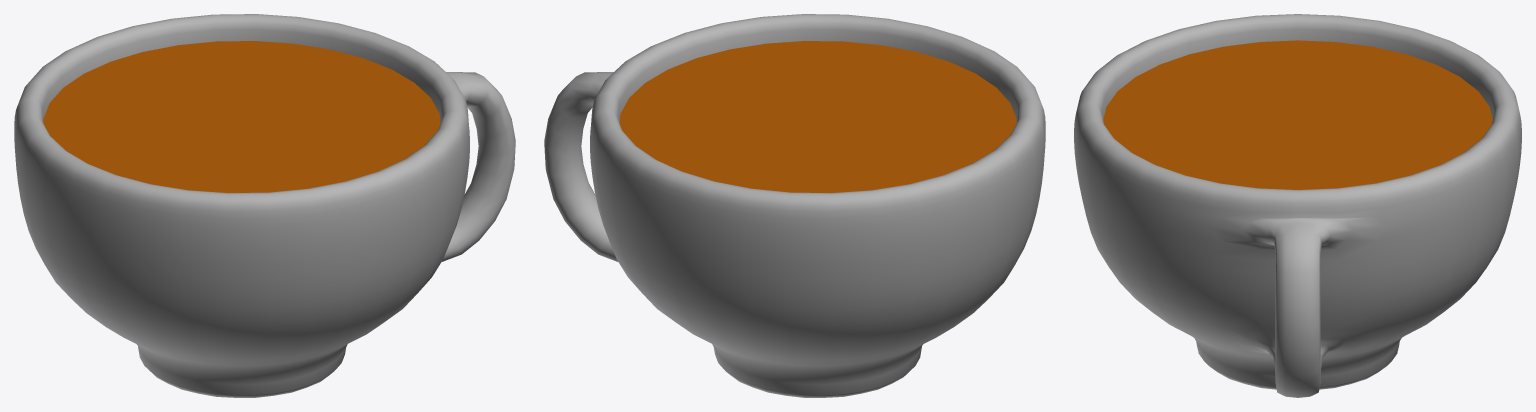
Rendered from Cup Full.fbx.
The picture shows the model from 3 angles, left to right: view 1: azimuth 30°, elevation 25°; view 2: azimuth 150°, elevation 25°; view 3: azimuth 270°, elevation 25°; orthographic projection.
Visible parts, largest first — view 1: Cup Full; view 2: Cup Full; view 3: Cup Full.
Part boxes in pixels (x1,y1,x2,y2): Cup Full: (14,14,515,397); Cup Full: (544,14,1045,397); Cup Full: (1074,14,1521,397).
Size of the model in its own units: 0.951 by 0.8052 by 0.49.
